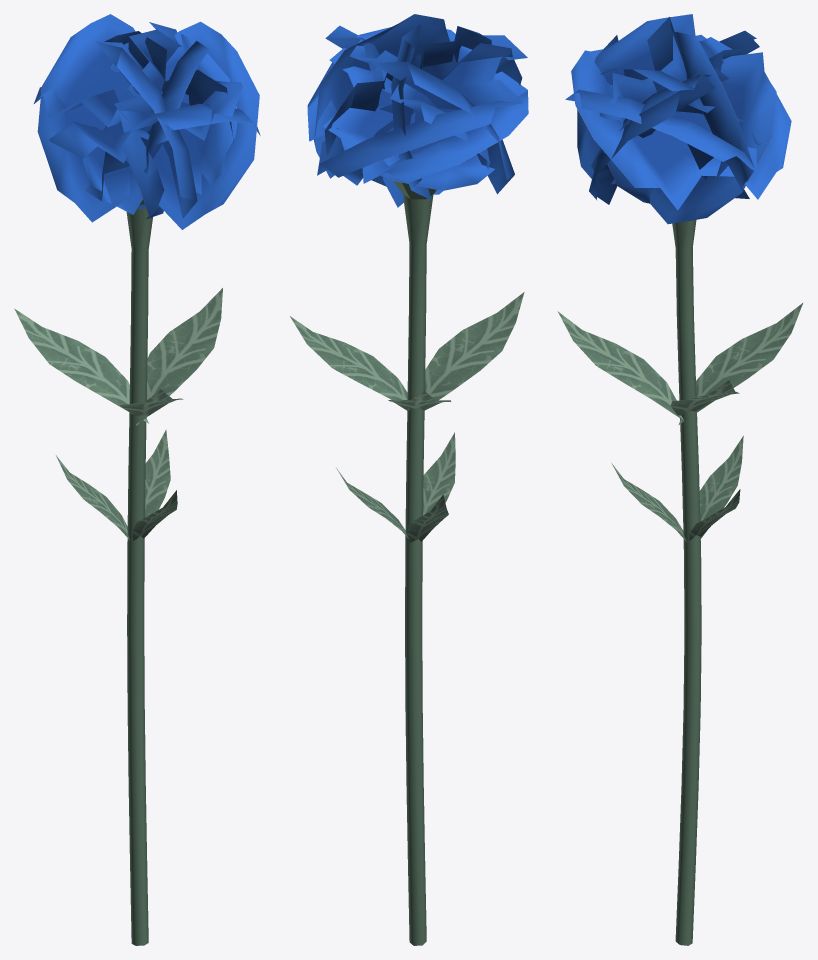
The model's file is flowerCarnation.fbx.
3 renders of one model, left to right at view 1: azimuth 30°, elevation 25°; view 2: azimuth 150°, elevation 25°; view 3: azimuth 270°, elevation 25°, orthographic.
Visible parts, largest first — view 1: carnationPetals, flowerCarnation, carnationLeaves1, carnationLeaves; view 2: carnationPetals, flowerCarnation, carnationLeaves1, carnationLeaves; view 3: carnationPetals, flowerCarnation, carnationLeaves1, carnationLeaves.
Boxes of the visible parts, box(x1,y1,x2,y2) form: carnationPetals: box(34, 14, 260, 229); flowerCarnation: box(126, 199, 152, 945); carnationLeaves1: box(14, 288, 222, 425); carnationLeaves: box(56, 429, 177, 540); carnationPetals: box(307, 14, 528, 207); flowerCarnation: box(393, 181, 436, 945); carnationLeaves1: box(290, 292, 524, 410); carnationLeaves: box(336, 432, 455, 542); carnationPetals: box(565, 14, 791, 224); flowerCarnation: box(672, 220, 701, 945); carnationLeaves1: box(558, 303, 802, 425); carnationLeaves: box(611, 436, 743, 541).
Bounding box in the file's own units: 12.32 × 52.92 × 12.86.
Materials: 2 (2 with a texture image).
